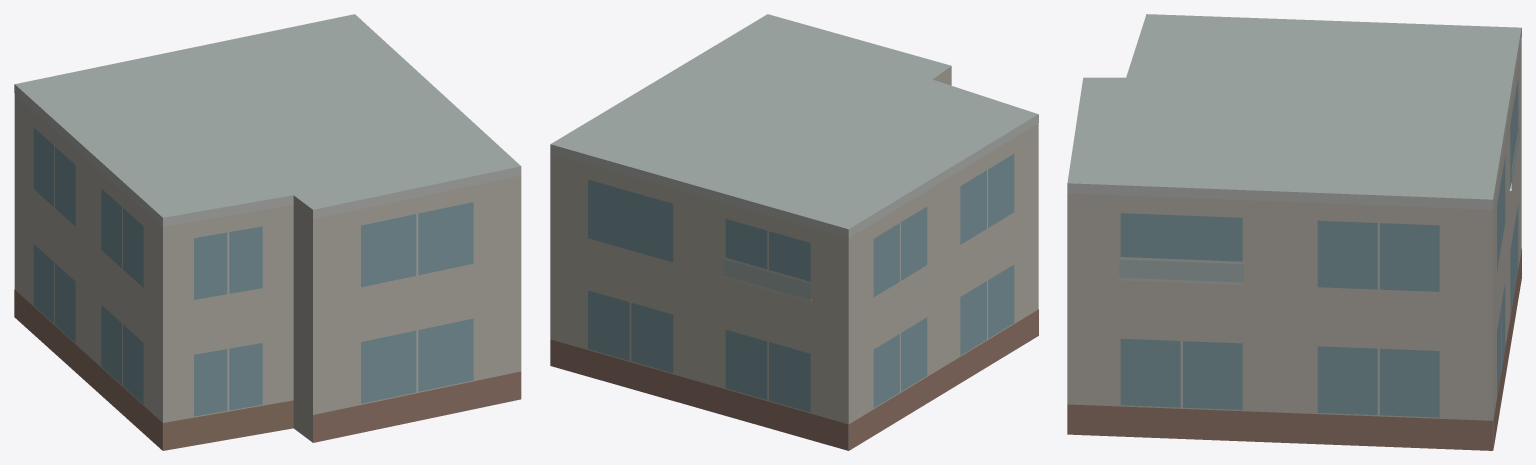
Rendered from survey-upis-32689032.glb.
3 renders of one model, left to right at view 1: azimuth 30°, elevation 25°; view 2: azimuth 150°, elevation 25°; view 3: azimuth 270°, elevation 25°, orthographic. The views are drawn at different scales.
Visible parts, largest first — view 1: survey-upis-32689032.tmp; view 2: survey-upis-32689032.tmp; view 3: survey-upis-32689032.tmp.
Boxes of the visible parts, x1=… form: survey-upis-32689032.tmp: x1=14, y1=14, x2=521, y2=450; survey-upis-32689032.tmp: x1=550, y1=14, x2=1038, y2=450; survey-upis-32689032.tmp: x1=1067, y1=14, x2=1521, y2=450.
Bounding box in the file's own units: 9.68 × 6.1 × 10.01.
